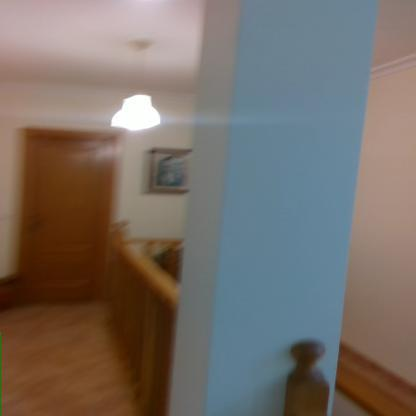door: (26, 131, 113, 300)
